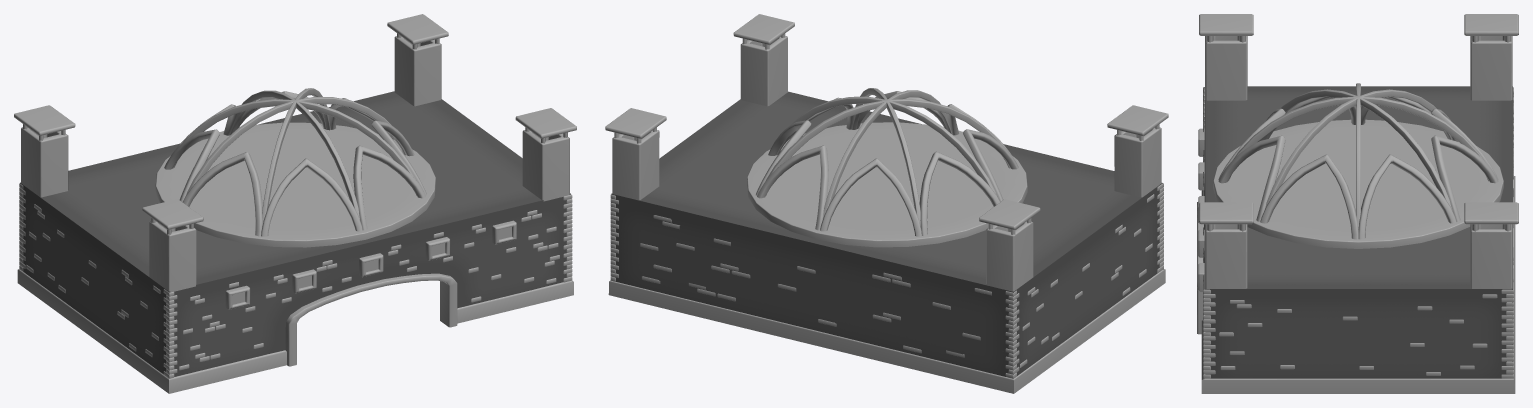
Rendered from kmu_outer_002.fbx.
3 renders of one model, left to right at view 1: azimuth 30°, elevation 25°; view 2: azimuth 150°, elevation 25°; view 3: azimuth 270°, elevation 25°, orthographic. The views are drawn at different scales.
Visible parts, largest first — view 1: polySurface205, decoration_054, entrance_009, entrance_008, polySurface204, polySurface203, sideblock; view 2: polySurface205, decoration_054, polySurface204, entrance_008, entrance_009, sideblock; view 3: polySurface205, decoration_054, entrance_009, entrance_008, polySurface204, sideblock, polySurface203.
Part boxes in pixels (x1,y1,x2,y2): polySurface205: [20, 91, 570, 376]; decoration_054: [155, 88, 435, 247]; entrance_009: [142, 108, 576, 292]; entrance_008: [14, 14, 448, 197]; polySurface204: [17, 269, 573, 393]; polySurface203: [285, 273, 457, 366]; sideblock: [19, 183, 572, 378]; polySurface205: [611, 91, 1162, 376]; decoration_054: [747, 88, 1027, 247]; polySurface204: [608, 269, 1165, 393]; entrance_008: [605, 108, 1040, 291]; entrance_009: [733, 14, 1168, 197]; sideblock: [610, 183, 1163, 378]; polySurface205: [1204, 86, 1512, 378]; decoration_054: [1213, 83, 1503, 248]; entrance_009: [1199, 14, 1253, 288]; entrance_008: [1464, 14, 1518, 288]; polySurface204: [1201, 176, 1515, 393]; sideblock: [1203, 87, 1513, 378]; polySurface203: [1197, 202, 1203, 334].
Size of the model in its own units: 36.91 by 16.21 by 24.26.
2 materials, 1 textured.
